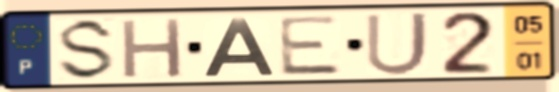2: (439, 9, 498, 76)
A: (200, 16, 278, 79)
E: (276, 13, 345, 78)
H: (118, 16, 186, 81)
S: (54, 16, 120, 84)
U: (363, 9, 433, 78)
